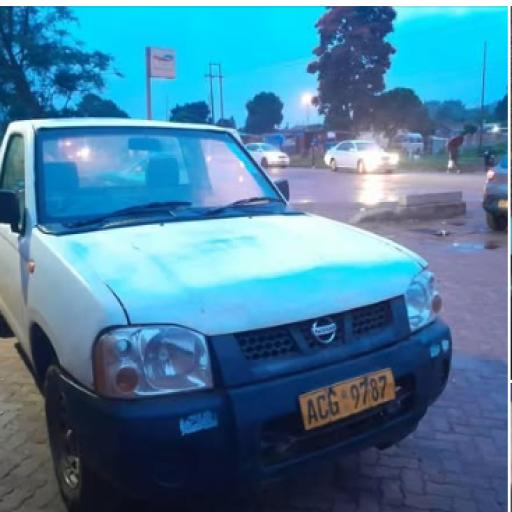number-plates: (298, 366, 395, 424)
